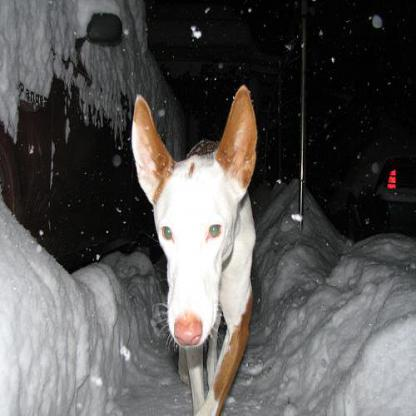dog: (129, 80, 266, 415)
